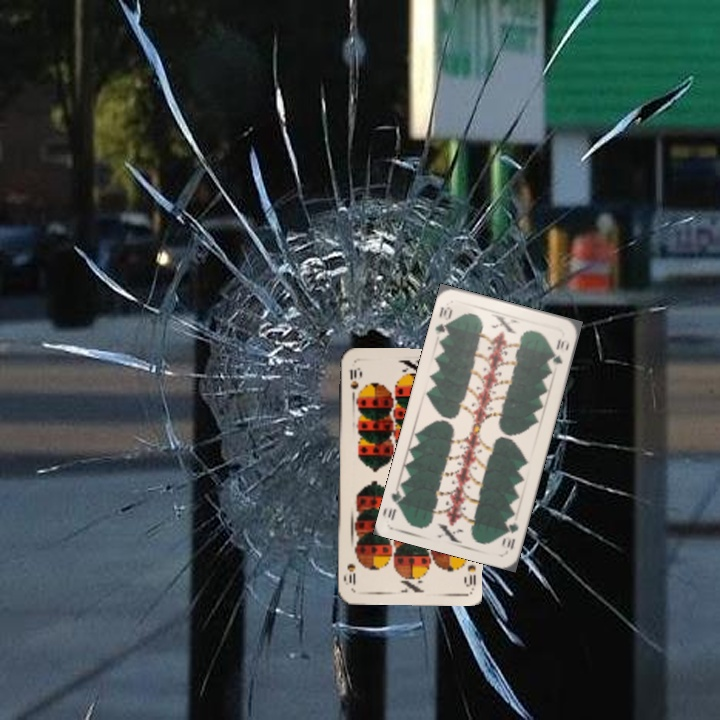G10: (431, 302, 455, 341), (501, 519, 521, 552)
S10: (346, 364, 361, 401), (460, 561, 479, 589)
